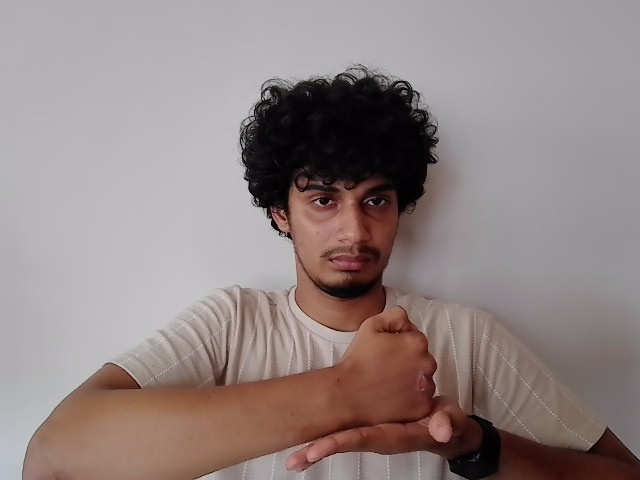help: (286, 306, 477, 478)
